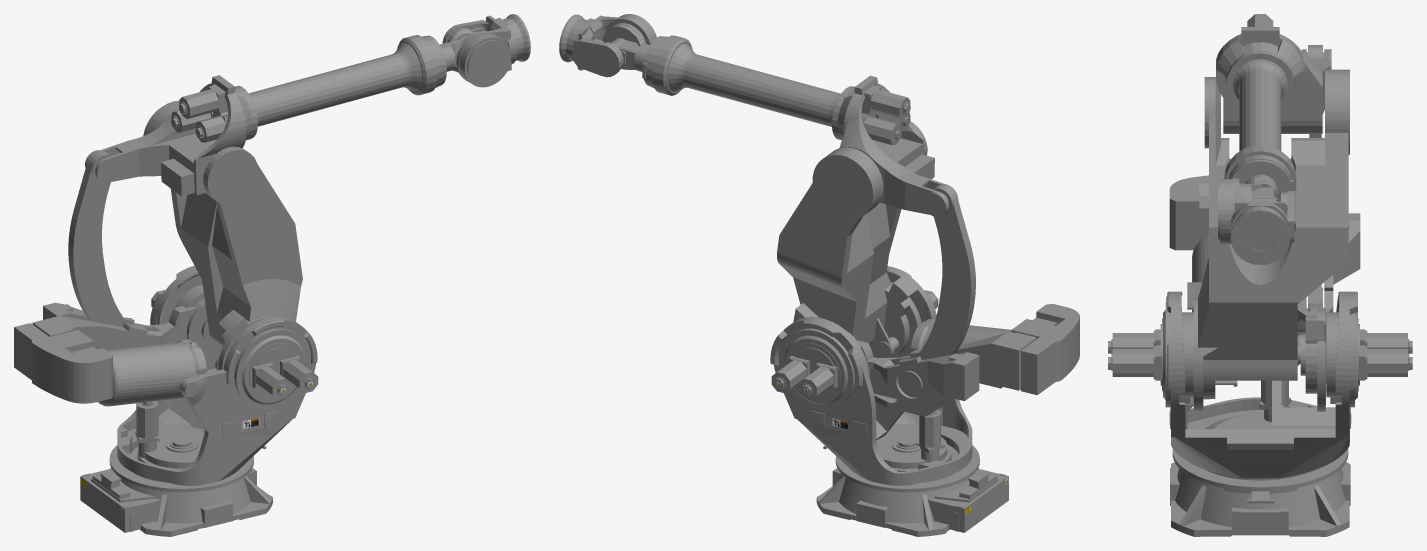
The model's file is prop_heavy_robotic_arm.FBX.
3 renders of one model, left to right at view 1: azimuth 30°, elevation 25°; view 2: azimuth 150°, elevation 25°; view 3: azimuth 270°, elevation 25°, orthographic. The views are drawn at different scales.
Visible parts, largest first — view 1: base, arm_lower, arm_upper, mount, hinge, hand, wrist; view 2: base, arm_lower, arm_upper, mount, hinge, hand, wrist; view 3: base, arm_lower, arm_upper, mount, hand, wrist, hinge.
Boxes of the visible parts, x1,y1,x2,y2 form: base: [14, 265, 318, 485]; arm_lower: [143, 100, 302, 370]; arm_upper: [85, 35, 443, 196]; mount: [80, 445, 272, 536]; hinge: [68, 150, 127, 326]; hand: [442, 14, 530, 87]; wrist: [426, 31, 480, 85]; base: [770, 266, 1079, 485]; arm_lower: [777, 121, 927, 357]; arm_upper: [646, 35, 953, 216]; mount: [816, 445, 1008, 536]; hinge: [917, 184, 975, 359]; hand: [559, 14, 656, 77]; wrist: [602, 24, 663, 86]; base: [1108, 175, 1412, 480]; arm_lower: [1187, 69, 1349, 410]; arm_upper: [1216, 14, 1331, 193]; mount: [1170, 448, 1350, 536]; hand: [1218, 178, 1294, 264]; wrist: [1231, 159, 1293, 201]; hinge: [1308, 45, 1322, 311].
Size of the model in its own units: 4.62 by 3.67 by 2.05.
